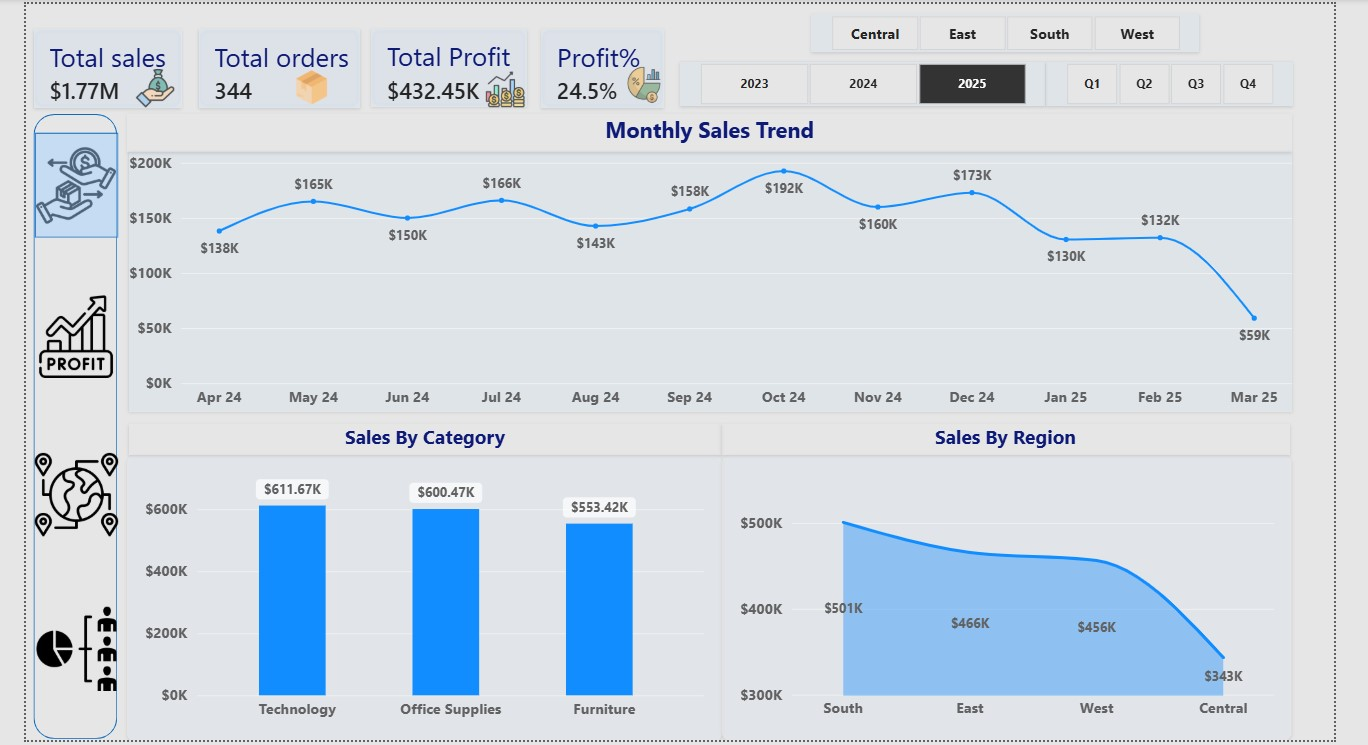

What the dashboard file says about the page in this screenshot:
{"tool":"powerbi","page":{"name":"Sales overview","canvas":[1280,720],"ordinal":1},"visuals":[{"type":"cardVisual","fields":{"Data":["Key measure.Total sales"]},"box":[7.5,25,145,77.5],"z":0},{"type":"cardVisual","fields":{"Data":["Key measure.Total Profit"]},"box":[337.5,25,152.5,76.2],"z":1000},{"type":"cardVisual","fields":{"Data":["Key measure.Total orders"]},"box":[168.8,25,158.8,77.5],"z":2000},{"type":"cardVisual","fields":{"Data":["Key measure.Profit%"]},"box":[503.8,25,120,77.5],"z":4000},{"type":"image","box":[247.5,63.8,65,36.2],"z":5000},{"type":"image","box":[585.7,55.7,37.6,45.9],"z":6000},{"type":"image","box":[100,63.8,52.5,37.5],"z":7000},{"type":"image","box":[447.3,63.1,42.5,39.8],"z":8000},{"type":"lineChart","fields":{"Y":["Key measure.Total sales"],"Category":["dim_date.Month Year"]},"box":[100.2,144.7,1138.1,254.6],"z":9000},{"type":"lineClusteredColumnComboChart","fields":{"Category":["fact_sales.Category"],"Y":["Key measure.Total sales"]},"box":[98.8,441,581.6,279.7],"z":10000},{"type":"textbox","box":[98.8,107.1,1139.5,37.6],"z":11000},{"type":"stackedAreaChart","fields":{"Category":["fact_sales.Region"],"Y":["Key measure.Total sales"]},"box":[681,441,557,279],"z":12000},{"type":"textbox","box":[100.2,410.4,580.2,30.6],"z":13000},{"type":"textbox","box":[680.3,410.4,556.5,30.6],"z":14000},{"type":"slicer","fields":{"Values":["dim_date.FY"]},"box":[640,56.2,357.5,43.8],"z":15000},{"type":"slicer","fields":{"Values":["dim_date.Quarters"]},"box":[997.5,56.2,241.2,43.8],"z":16000},{"type":"slicer","fields":{"Values":["fact_sales.Region"]},"box":[767.5,10,380,37.5],"z":17000},{"type":"shape","box":[7.3,107.6,81.9,611.4],"z":18000},{"type":"image","box":[8.6,126,80.7,102.7],"z":19000},{"type":"image","box":[8.6,271.5,80.7,107.6],"z":20000},{"type":"image","box":[8.6,425.5,81.9,108.8],"z":21000},{"type":"image","box":[8.6,580.8,81.9,100.3],"z":22000},{"type":"shape","box":[8.6,126,81.9,102.7],"z":23000}]}

Visuals, with their boxes on the page's 1280x720 design canvas (x1, y1, x2, y2). These are canvas units, not pixel positions in the 1368x745 screenshot, which may show the page scaled, cropped or inside an application window:
cardVisual - Key measure.Total sales: (x1=8, y1=25, x2=152, y2=102)
cardVisual - Key measure.Total Profit: (x1=338, y1=25, x2=490, y2=101)
cardVisual - Key measure.Total orders: (x1=169, y1=25, x2=328, y2=102)
cardVisual - Key measure.Profit%: (x1=504, y1=25, x2=624, y2=102)
image: (x1=248, y1=64, x2=312, y2=100)
image: (x1=586, y1=56, x2=623, y2=102)
image: (x1=100, y1=64, x2=152, y2=101)
image: (x1=447, y1=63, x2=490, y2=103)
lineChart - Key measure.Total sales x dim_date.Month Year: (x1=100, y1=145, x2=1238, y2=399)
lineClusteredColumnComboChart - fact_sales.Category x Key measure.Total sales: (x1=99, y1=441, x2=680, y2=721)
textbox: (x1=99, y1=107, x2=1238, y2=145)
stackedAreaChart - fact_sales.Region x Key measure.Total sales: (x1=681, y1=441, x2=1238, y2=720)
textbox: (x1=100, y1=410, x2=680, y2=441)
textbox: (x1=680, y1=410, x2=1237, y2=441)
slicer - dim_date.FY: (x1=640, y1=56, x2=998, y2=100)
slicer - dim_date.Quarters: (x1=998, y1=56, x2=1239, y2=100)
slicer - fact_sales.Region: (x1=768, y1=10, x2=1148, y2=48)
shape: (x1=7, y1=108, x2=89, y2=719)
image: (x1=9, y1=126, x2=89, y2=229)
image: (x1=9, y1=272, x2=89, y2=379)
image: (x1=9, y1=426, x2=90, y2=534)
image: (x1=9, y1=581, x2=90, y2=681)
shape: (x1=9, y1=126, x2=90, y2=229)
